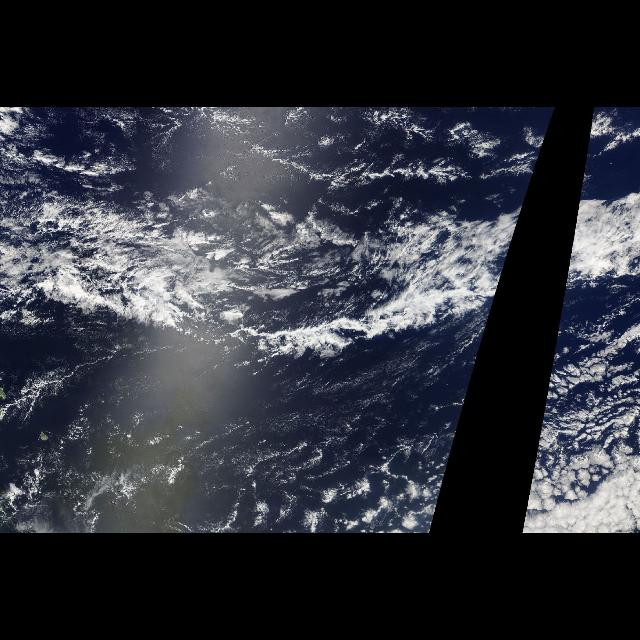Fish: (3, 147, 530, 377), (551, 182, 637, 374)
Flower: (522, 317, 640, 533)
Gravel: (232, 322, 488, 530), (522, 322, 632, 530)
